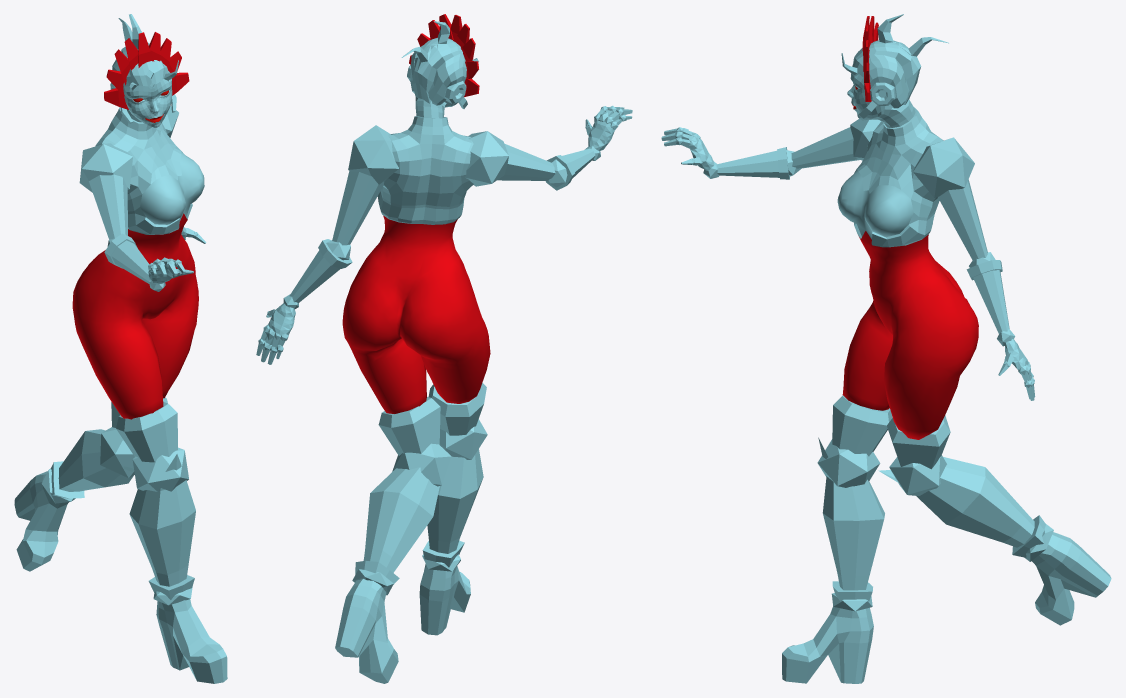
File: Mia_statue_stand1.fbx
3 views of the same model, side by side, from view 1: azimuth 30°, elevation 25°; view 2: azimuth 150°, elevation 25°; view 3: azimuth 270°, elevation 25° (orthographic). The views are drawn at different scales.
Parts seen in each view (by area): view 1: Mia_statue_stand1; view 2: Mia_statue_stand1; view 3: Mia_statue_stand1.
Boxes of the visible parts, x1,y1,x2,y2 form: Mia_statue_stand1: (14,14,227,683); Mia_statue_stand1: (256,14,632,683); Mia_statue_stand1: (661,14,1111,683).
Size of the model in its own units: 89.32 by 259 by 162.
